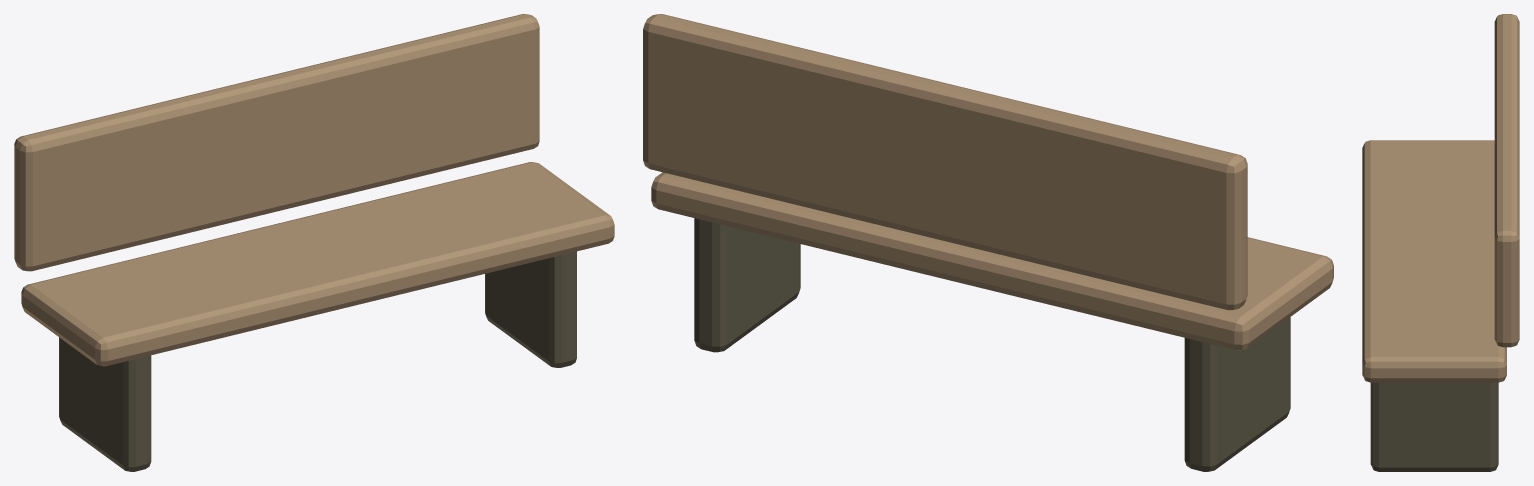
The model's file is SM_Warmerdamm_Bench.fbx.
The picture shows the model from 3 angles, left to right: view 1: azimuth 30°, elevation 25°; view 2: azimuth 150°, elevation 25°; view 3: azimuth 270°, elevation 25°; orthographic projection. The views are drawn at different scales.
Visible parts, largest first — view 1: SM_Warmerdamm_Bench; view 2: SM_Warmerdamm_Bench; view 3: SM_Warmerdamm_Bench.
Part boxes in pixels (x1,y1,x2,y2): SM_Warmerdamm_Bench: (14, 14, 614, 471); SM_Warmerdamm_Bench: (643, 14, 1333, 471); SM_Warmerdamm_Bench: (1362, 14, 1519, 471).
Size of the model in its own units: 1.9 by 1.01 by 0.565.
